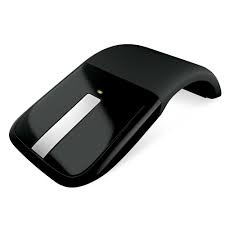mouse: (12, 42, 221, 188)
